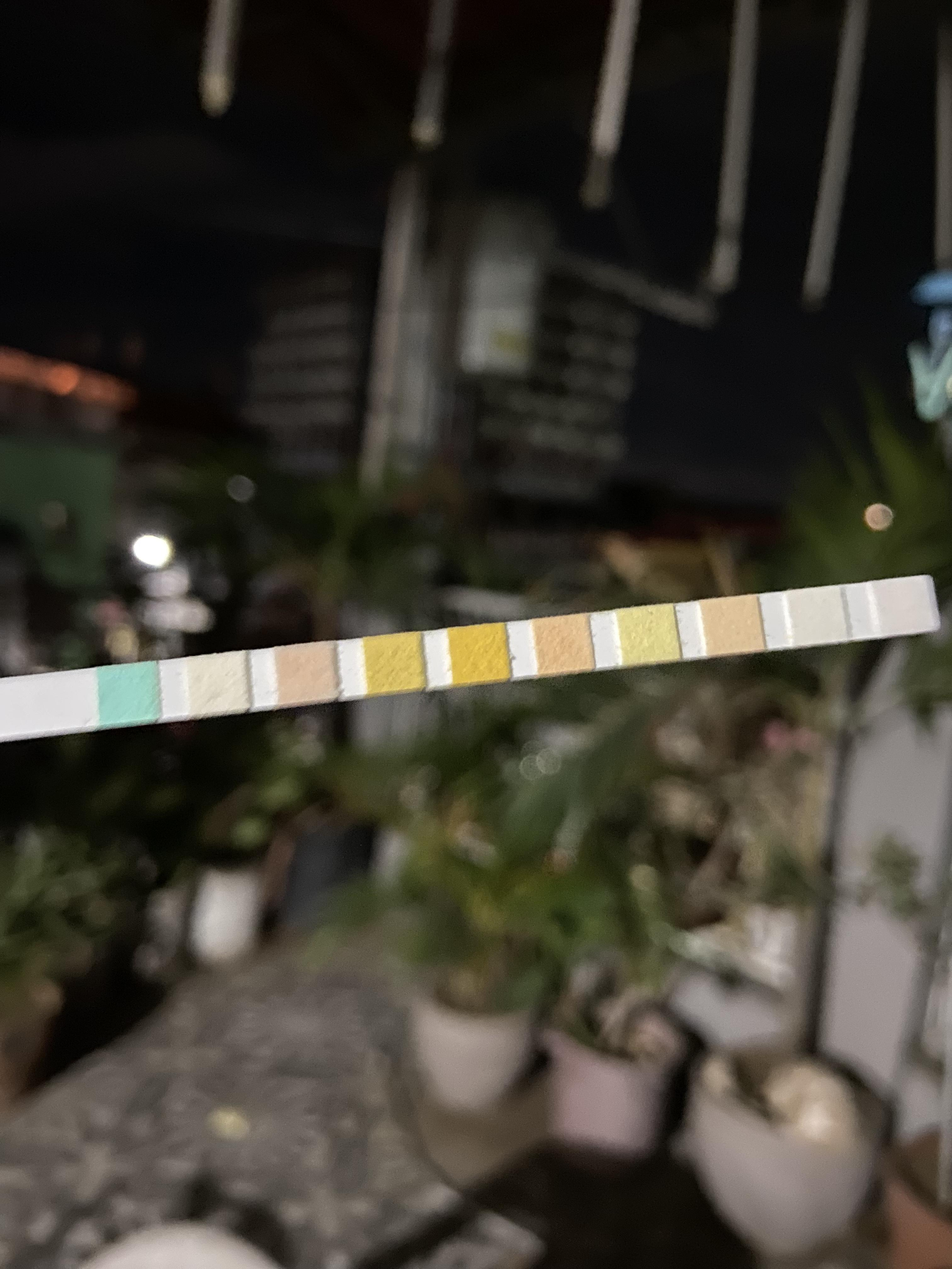Bilirubin: (192, 655, 246, 712)
Blood: (453, 628, 506, 680)
Glucose: (102, 667, 159, 718)
Ketone: (279, 647, 334, 700)
Leukocytes: (878, 582, 927, 632)
Nitrite: (790, 590, 841, 641)
Protein: (624, 610, 675, 661)
SpGravity: (368, 637, 421, 690)
Urobilinogen: (708, 600, 758, 652)
pH: (540, 618, 589, 672)
strip: (0, 576, 940, 743)
